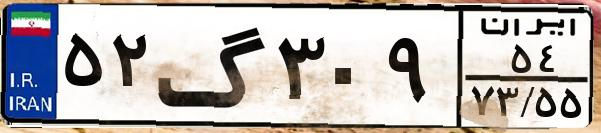0: (330, 28, 385, 110)
2: (110, 28, 156, 98)
3: (270, 28, 330, 110), (495, 70, 520, 125)
4: (537, 27, 568, 80)
5: (57, 26, 110, 100), (560, 70, 590, 125), (508, 27, 537, 80), (535, 70, 560, 125)
7: (470, 70, 495, 125)
9: (385, 28, 445, 110)
گ: (156, 12, 270, 120)
